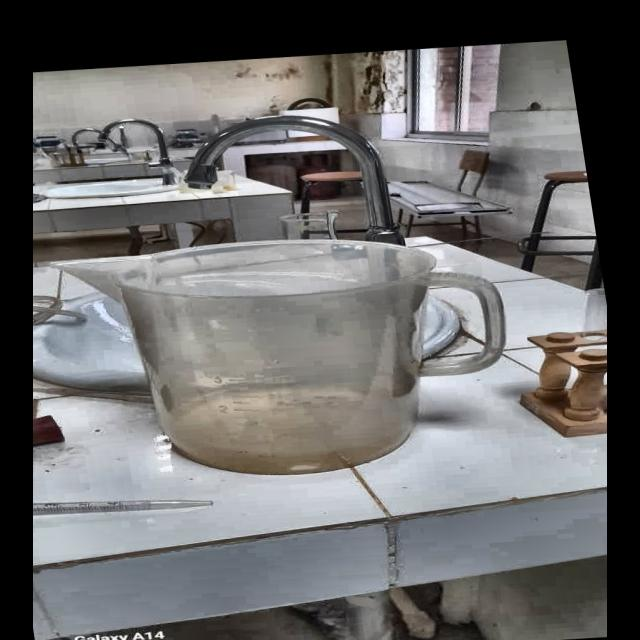Beakers: (33, 224, 543, 494)
